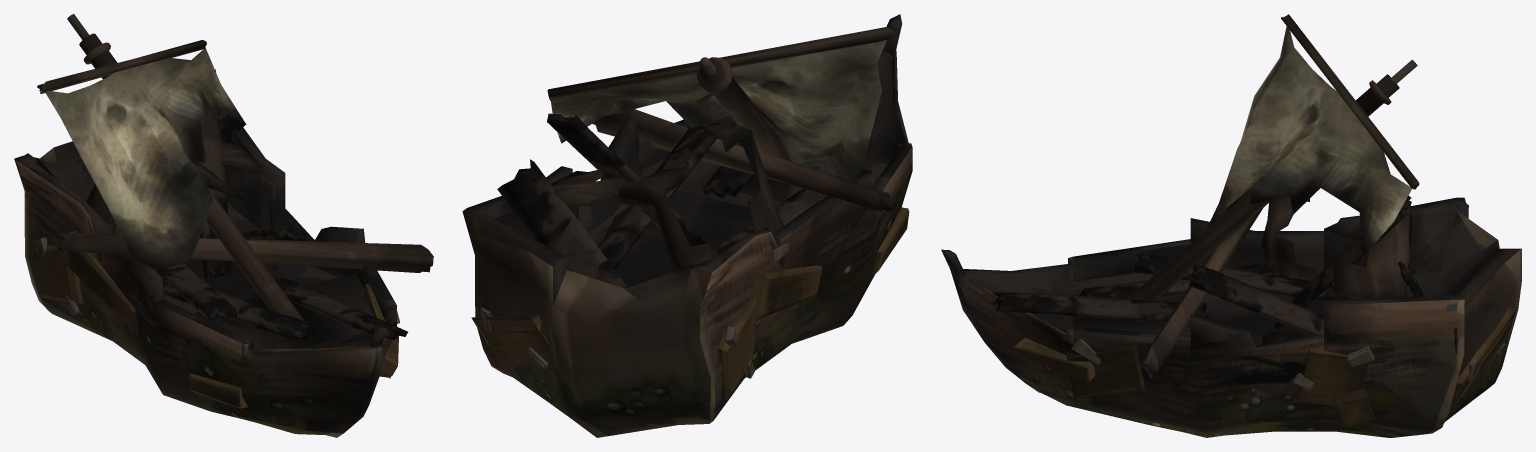
The model's file is boatdef.fbx.
3 renders of one model, left to right at view 1: azimuth 30°, elevation 25°; view 2: azimuth 150°, elevation 25°; view 3: azimuth 270°, elevation 25°, orthographic. The views are drawn at different scales.
Parts seen in each view (by area): view 1: SAIL; view 2: SAIL; view 3: SAIL.
Boxes of the visible parts, <box> form: SAIL: <box>14,14,433,437</box>; SAIL: <box>462,14,912,437</box>; SAIL: <box>941,14,1521,437</box>.
Bounding box in the file's own units: 338 × 531 × 327.
26 materials, 26 textured.
